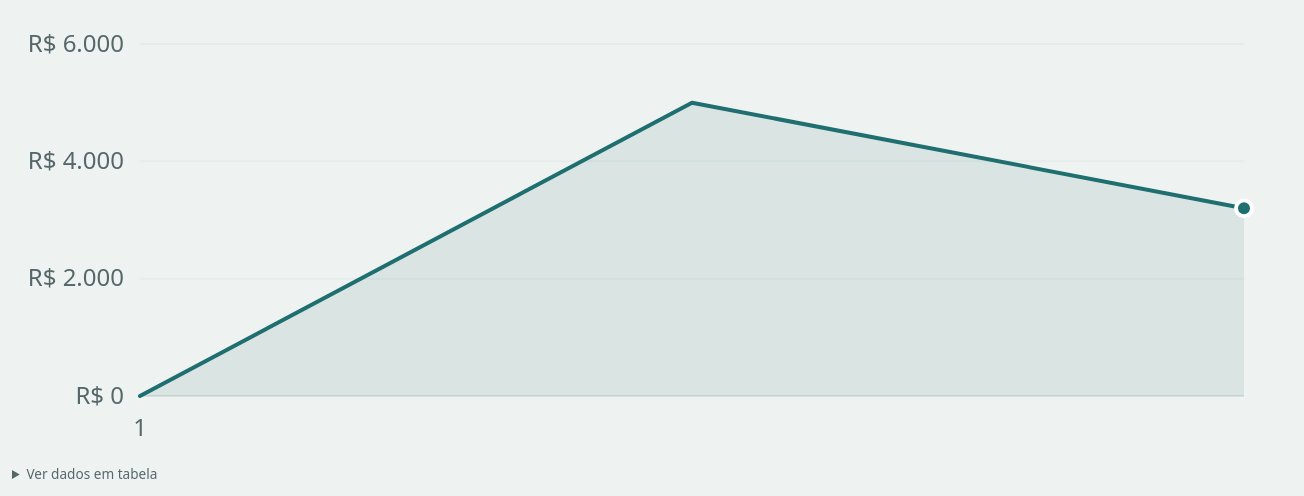
BalanceChart › mostra o saldo do dia pelo teclado, começando pelo último dia
Focus the picture at (652, 232), box [12,12,1292,452]
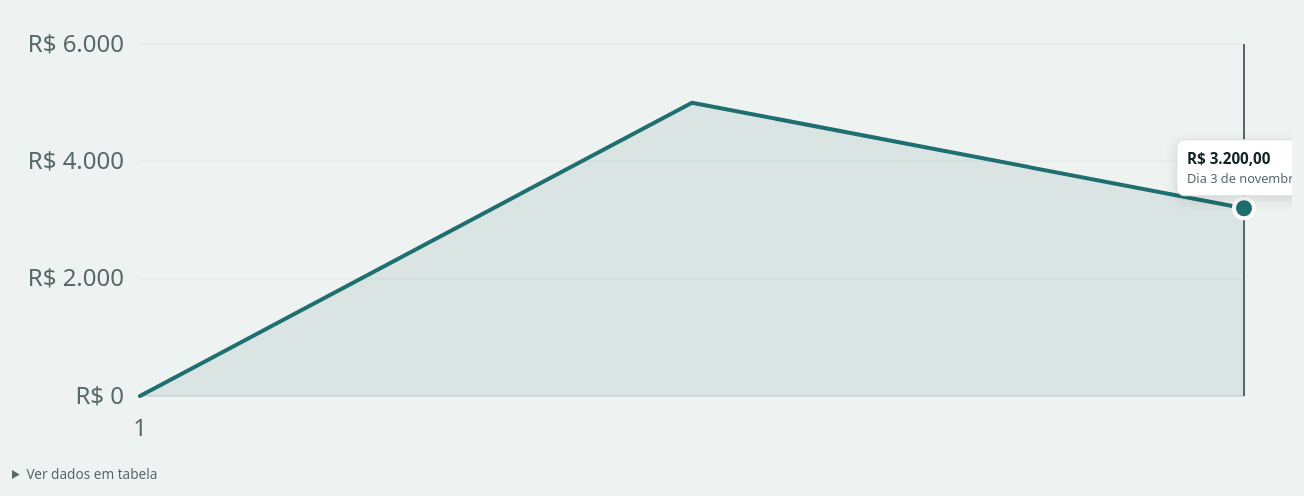
Press ArrowLeft in the picture
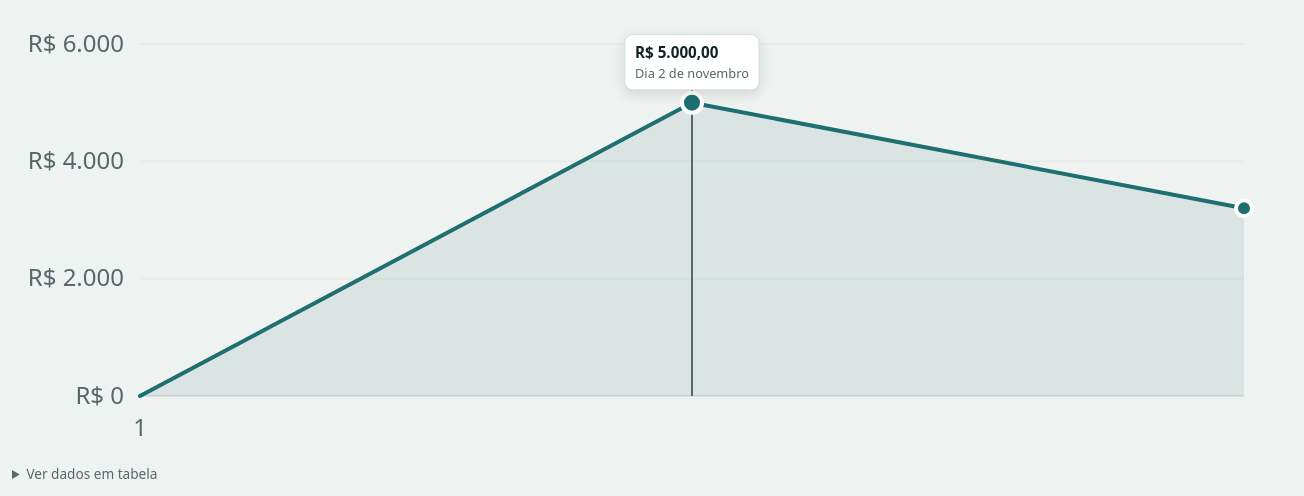
Result: the message reads "R$ 5.000,00 Dia 2 de novembro" at [624,34,760,91]
Press ArrowRight in the picture
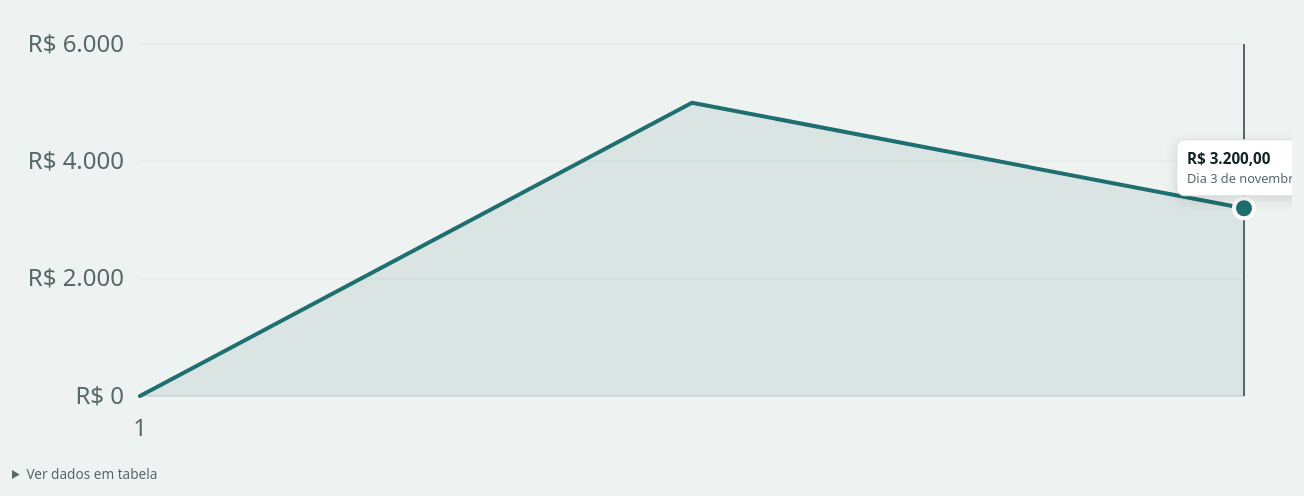
Press ArrowRight in the picture
Leave the picture
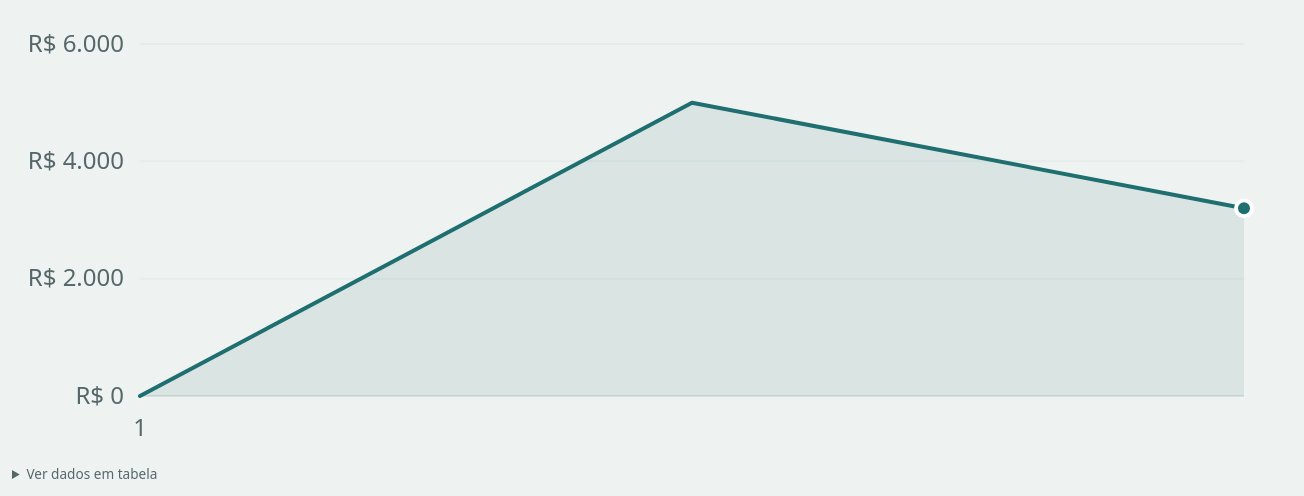
Result: the message "R$ 3.200,00 Dia 3 de novembro" is gone
